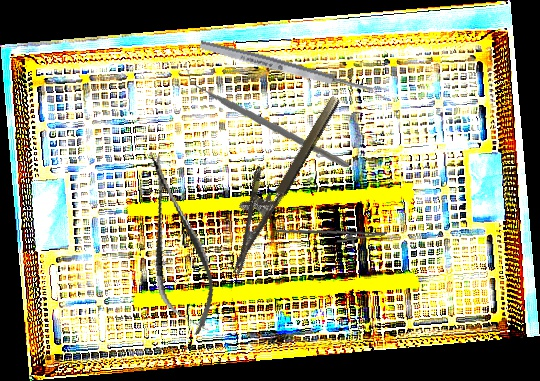Chopper: (186, 57, 350, 178)
Micro Scissor: (130, 149, 225, 341)
Needle Holder: (204, 81, 343, 276), (275, 218, 389, 255)
Surgical Spoon: (198, 38, 389, 101)
